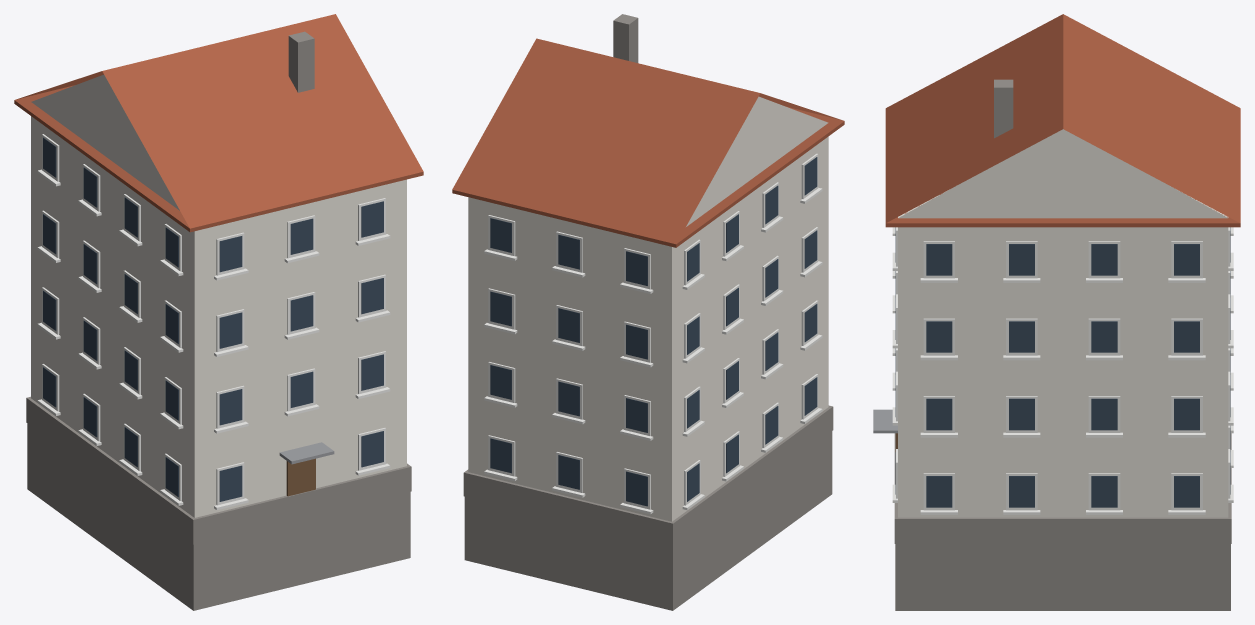
The model's file is house_c.glb.
3 views of the same model, side by side, from view 1: azimuth 30°, elevation 25°; view 2: azimuth 150°, elevation 25°; view 3: azimuth 270°, elevation 25° (orthographic). The views are drawn at different scales.
Visible parts, largest first — view 1: house_c; view 2: house_c; view 3: house_c.
Boxes of the visible parts, <box> form: house_c: <box>14,14,423,610</box>; house_c: <box>452,14,844,610</box>; house_c: <box>873,14,1240,610</box>.
Bounding box in the file's own units: 9.9 × 20.05 × 13.35.
